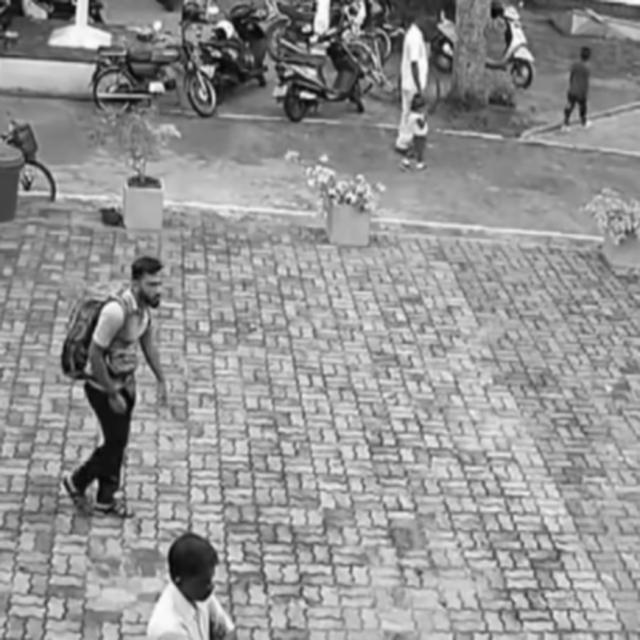Invader: (59, 255, 168, 518), (142, 530, 241, 638), (561, 40, 597, 140)
